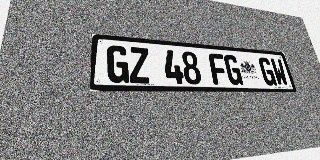4: (163, 49, 184, 84)
8: (181, 51, 202, 84)
F: (208, 53, 229, 85)
G: (107, 45, 129, 83), (223, 54, 244, 85), (257, 57, 277, 86)
W: (270, 58, 289, 86)
Z: (129, 47, 151, 84)
